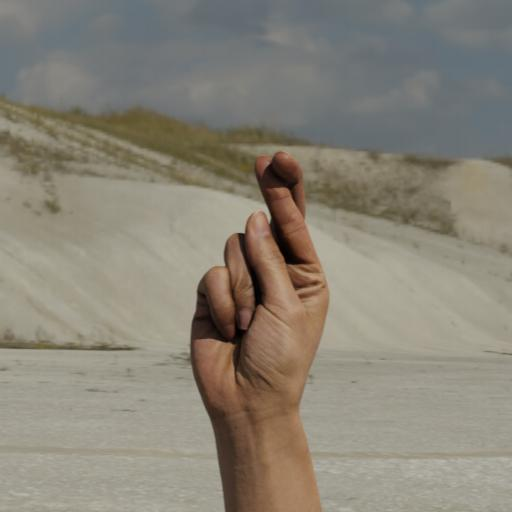R: (145, 120, 341, 462)
